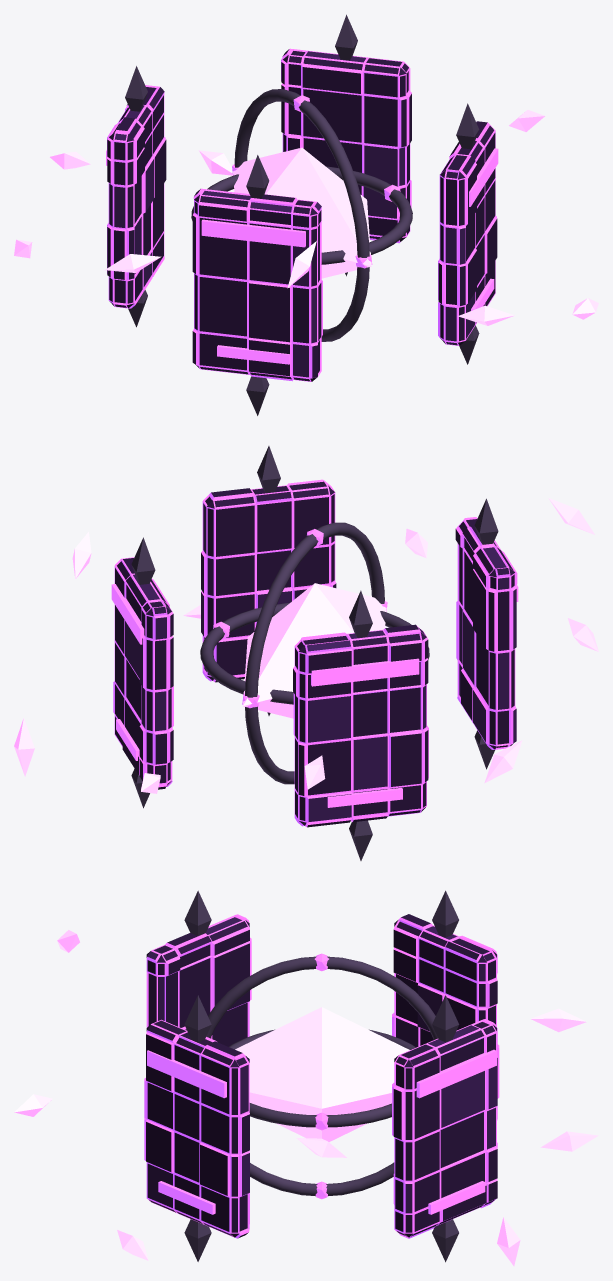
File: sentinel.glb
3 renders of one model, top to bottom at view 1: azimuth 30°, elevation 25°; view 2: azimuth 150°, elevation 25°; view 3: azimuth 270°, elevation 25°, orthographic. The views are drawn at different scales.
Visible parts, largest first — view 1: plates_mesh, core, gimbal0_mesh, shards_mesh, gimbal1_mesh; view 2: plates_mesh, core, gimbal0_mesh, shards_mesh, gimbal1_mesh; view 3: plates_mesh, core, gimbal0_mesh, shards_mesh, gimbal1_mesh.
Boxes of the visible parts, x1,y1,x2,y2 form: plates_mesh: [106, 14, 498, 415]; core: [232, 147, 371, 278]; gimbal0_mesh: [232, 89, 372, 341]; shards_mesh: [14, 110, 598, 325]; gimbal1_mesh: [191, 166, 412, 264]; plates_mesh: [111, 446, 518, 860]; core: [243, 583, 386, 718]; gimbal0_mesh: [242, 522, 387, 784]; shards_mesh: [14, 498, 598, 793]; gimbal1_mesh: [200, 603, 429, 704]; plates_mesh: [144, 890, 499, 1262]; core: [235, 1007, 409, 1141]; gimbal0_mesh: [206, 953, 437, 1199]; shards_mesh: [14, 930, 598, 1266]; gimbal1_mesh: [229, 1029, 415, 1130].
Size of the model in its own units: 10.21 by 5.4 by 10.69.
